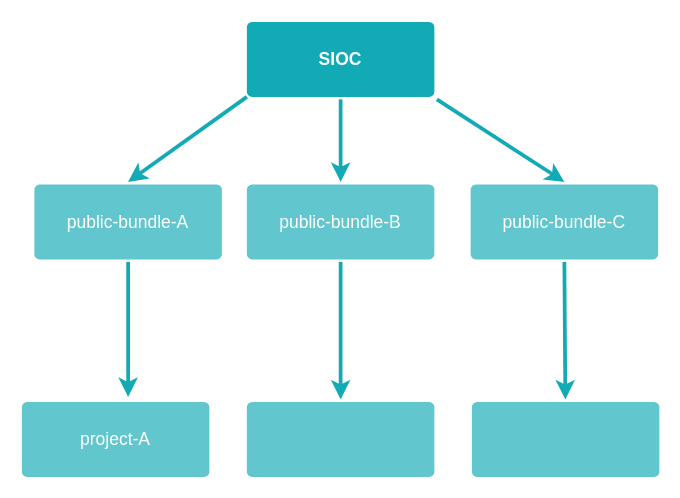
Image size: 680x498. Some labels were removed from this diagram. Each missing label, with the centre of its shape:
"project-B" belongs at point 340,438.
"project-C" belongs at point 565,438.
